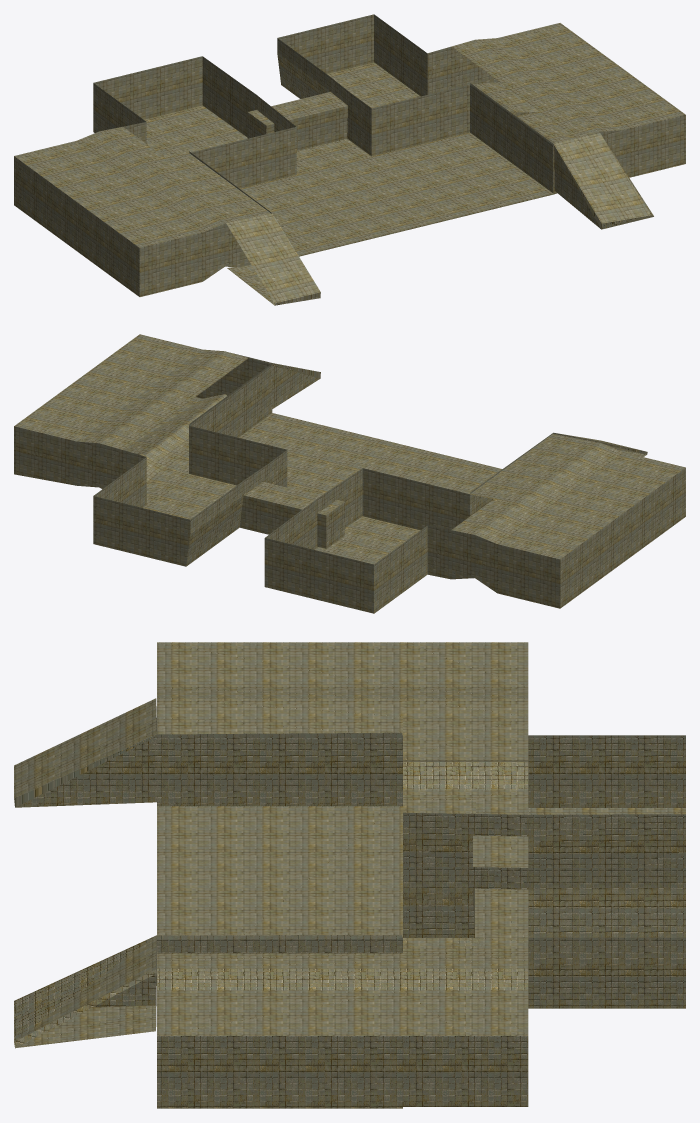
Rendered from Floor 1st.fbx.
The picture shows the model from 3 angles, top to bottom: view 1: azimuth 30°, elevation 25°; view 2: azimuth 150°, elevation 25°; view 3: azimuth 270°, elevation 25°; orthographic projection. The views are drawn at different scales.
Visible parts, largest first — view 1: Floor (1st); view 2: Floor (1st); view 3: Floor (1st).
Part boxes in pixels (box(x1,y1,x2,y2)): Floor (1st): box(14, 14, 685, 305); Floor (1st): box(14, 334, 685, 613); Floor (1st): box(14, 642, 685, 1108).
Bounding box in the file's own units: 7950 × 743 × 5738.
